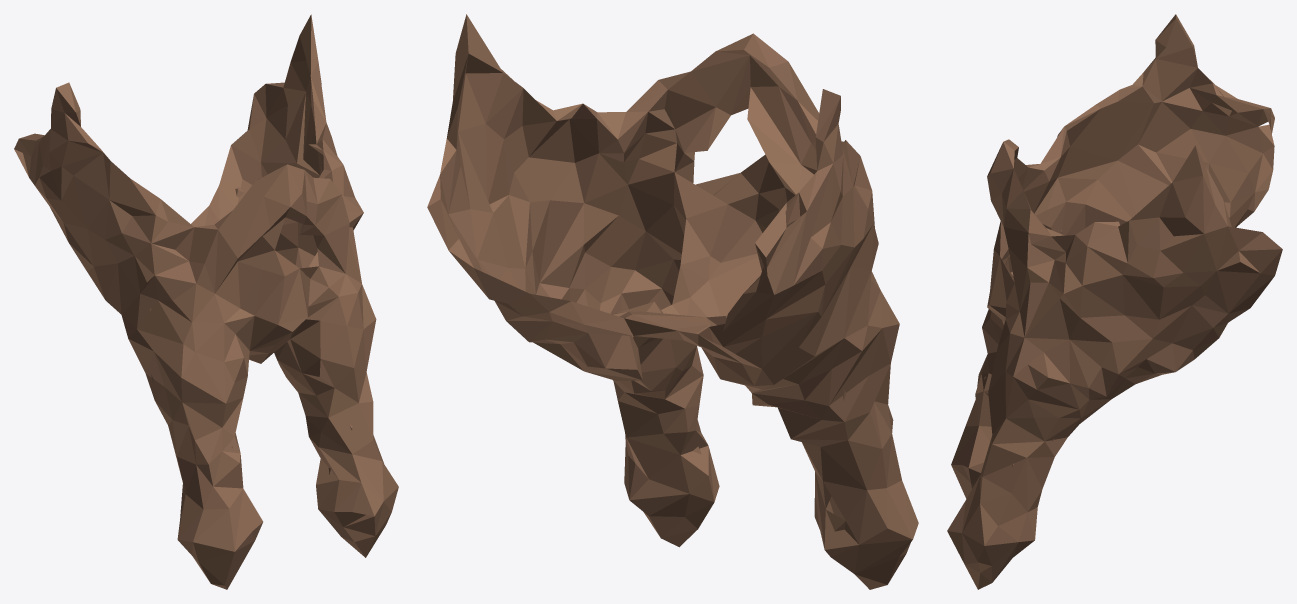
Rendered from Beard_split-braid_LOD2.glb.
3 renders of one model, left to right at view 1: azimuth 30°, elevation 25°; view 2: azimuth 150°, elevation 25°; view 3: azimuth 270°, elevation 25°, orthographic. The views are drawn at different scales.
Parts seen in each view (by area): view 1: Beard_split-braid_LOD2; view 2: Beard_split-braid_LOD2; view 3: Beard_split-braid_LOD2.
Boxes of the visible parts, left/top/right/bottom form: Beard_split-braid_LOD2: left=14, top=14, right=398, bottom=589; Beard_split-braid_LOD2: left=427, top=14, right=918, bottom=589; Beard_split-braid_LOD2: left=947, top=14, right=1282, bottom=589.
Bounding box in the file's own units: 0.1498 × 0.2382 × 0.1541.
